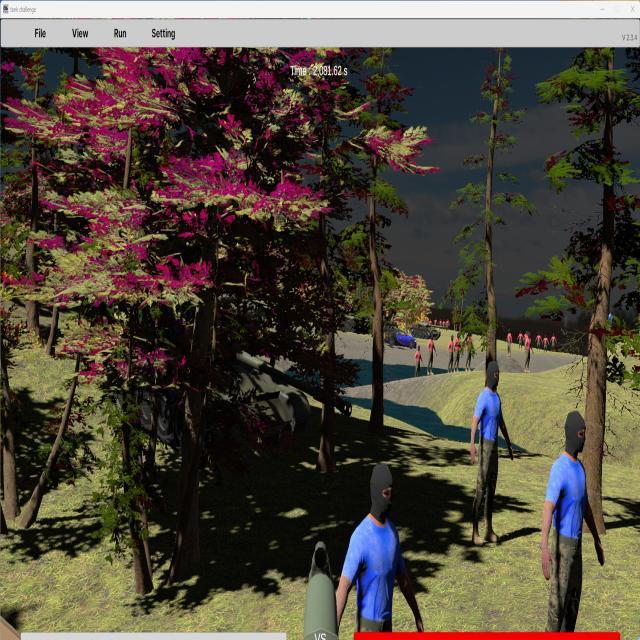Human: (334, 460, 426, 639), (541, 409, 604, 636), (471, 358, 513, 549)
Tank: (410, 321, 445, 340)
